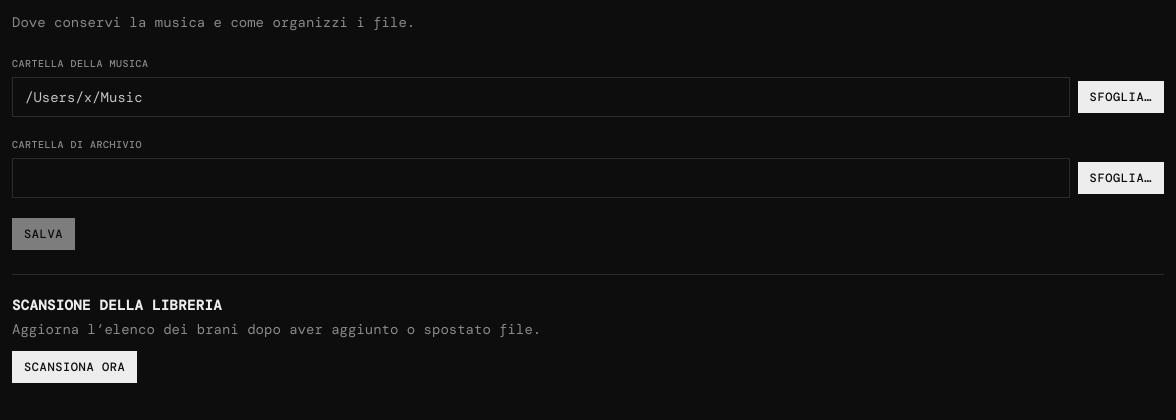
Test case: ConfigCard + picker › il percorso scelto riempie la bozza senza salvare
Click the 1st button "Sfoglia…".
click(1121, 97)  # box [1078, 81, 1164, 113]
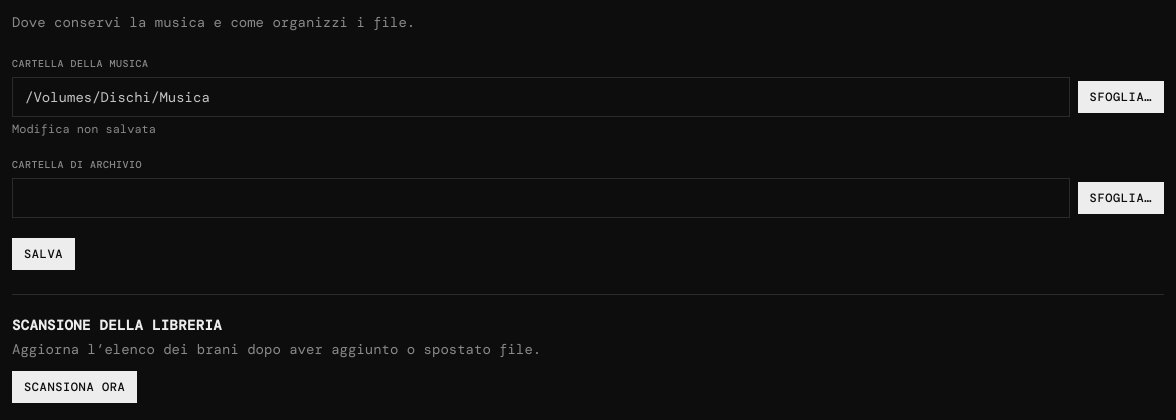
Expected: the field showing "/Volumes/Dischi/Musica" is shown, [12, 77, 1070, 117]
